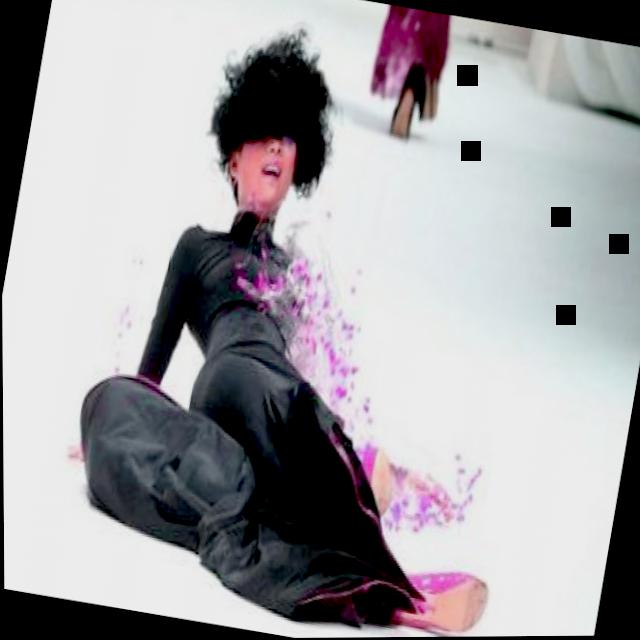Fall-Detected: (47, 0, 570, 640)
